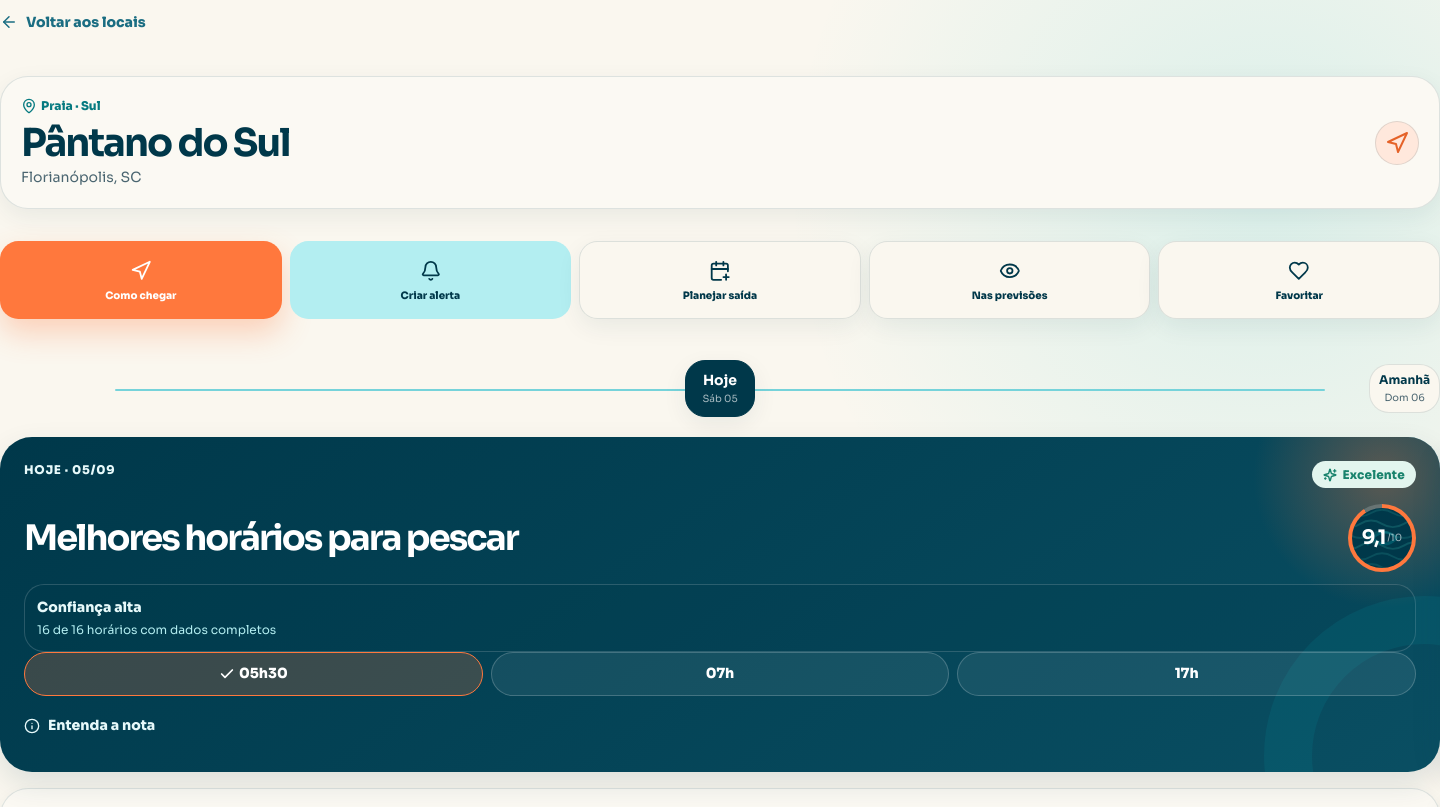
Test: LocationDetailsPage › atualiza métricas, maré e gráficos ao selecionar outra hora
Expected: the element named "Nota 9,1 de 10, Excelente" is shown, 1348,504 -> 1416,572
Click the button named "Ver condições das 07h" at coordinates (720, 674), box 491,652 -> 949,696
(page scrolled)
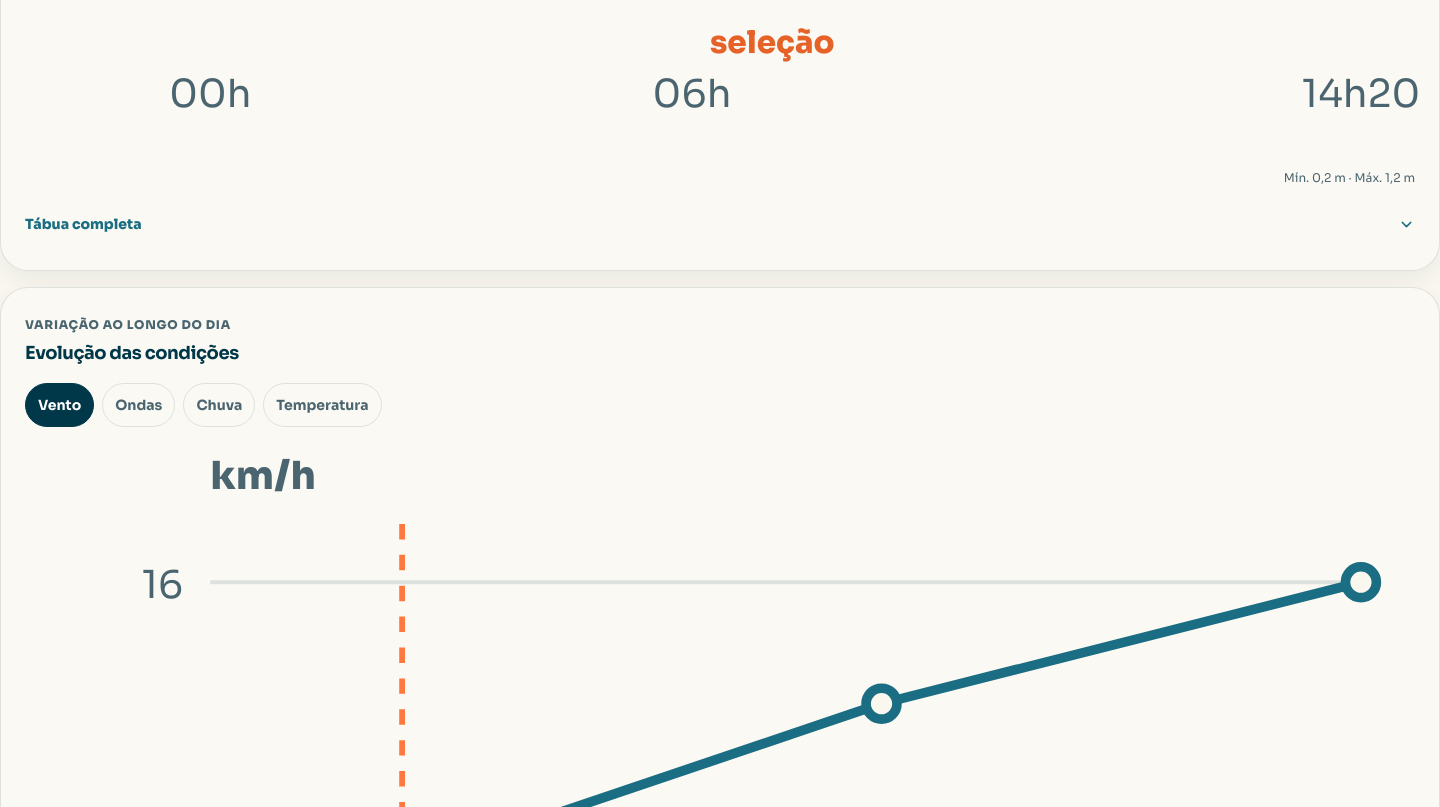
Expected: the text "seleção" is shown, 710,23 -> 835,62
Click the tab "Chuva" at coordinates (219, 405), box 183,383 -> 255,427
(page scrolled)
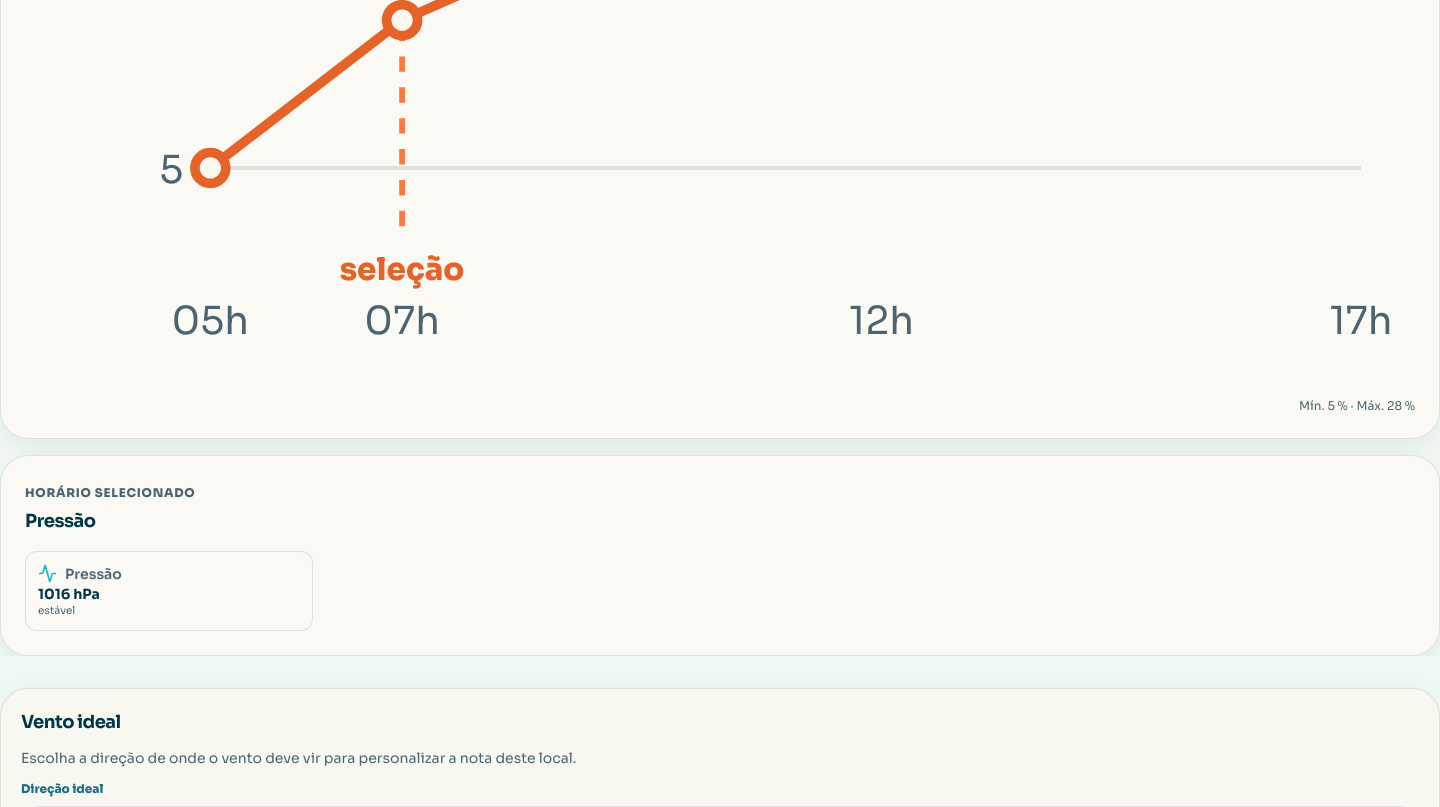
Expected: the text "Mín. 5 % · Máx. 28 %" is shown, 1299,398 -> 1415,413
